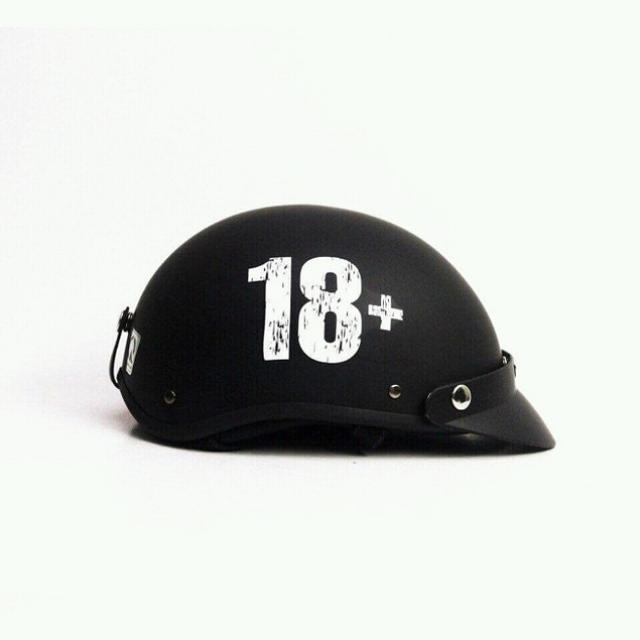Helmet: (95, 178, 566, 487)
